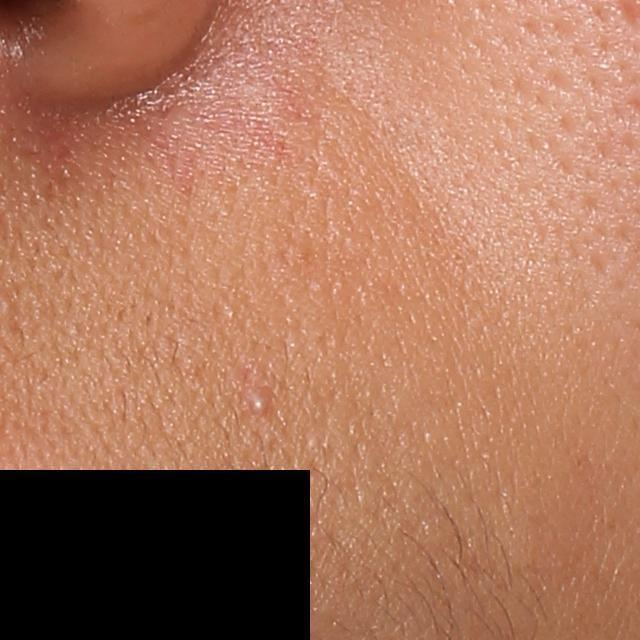pustule: (248, 387, 268, 415)
